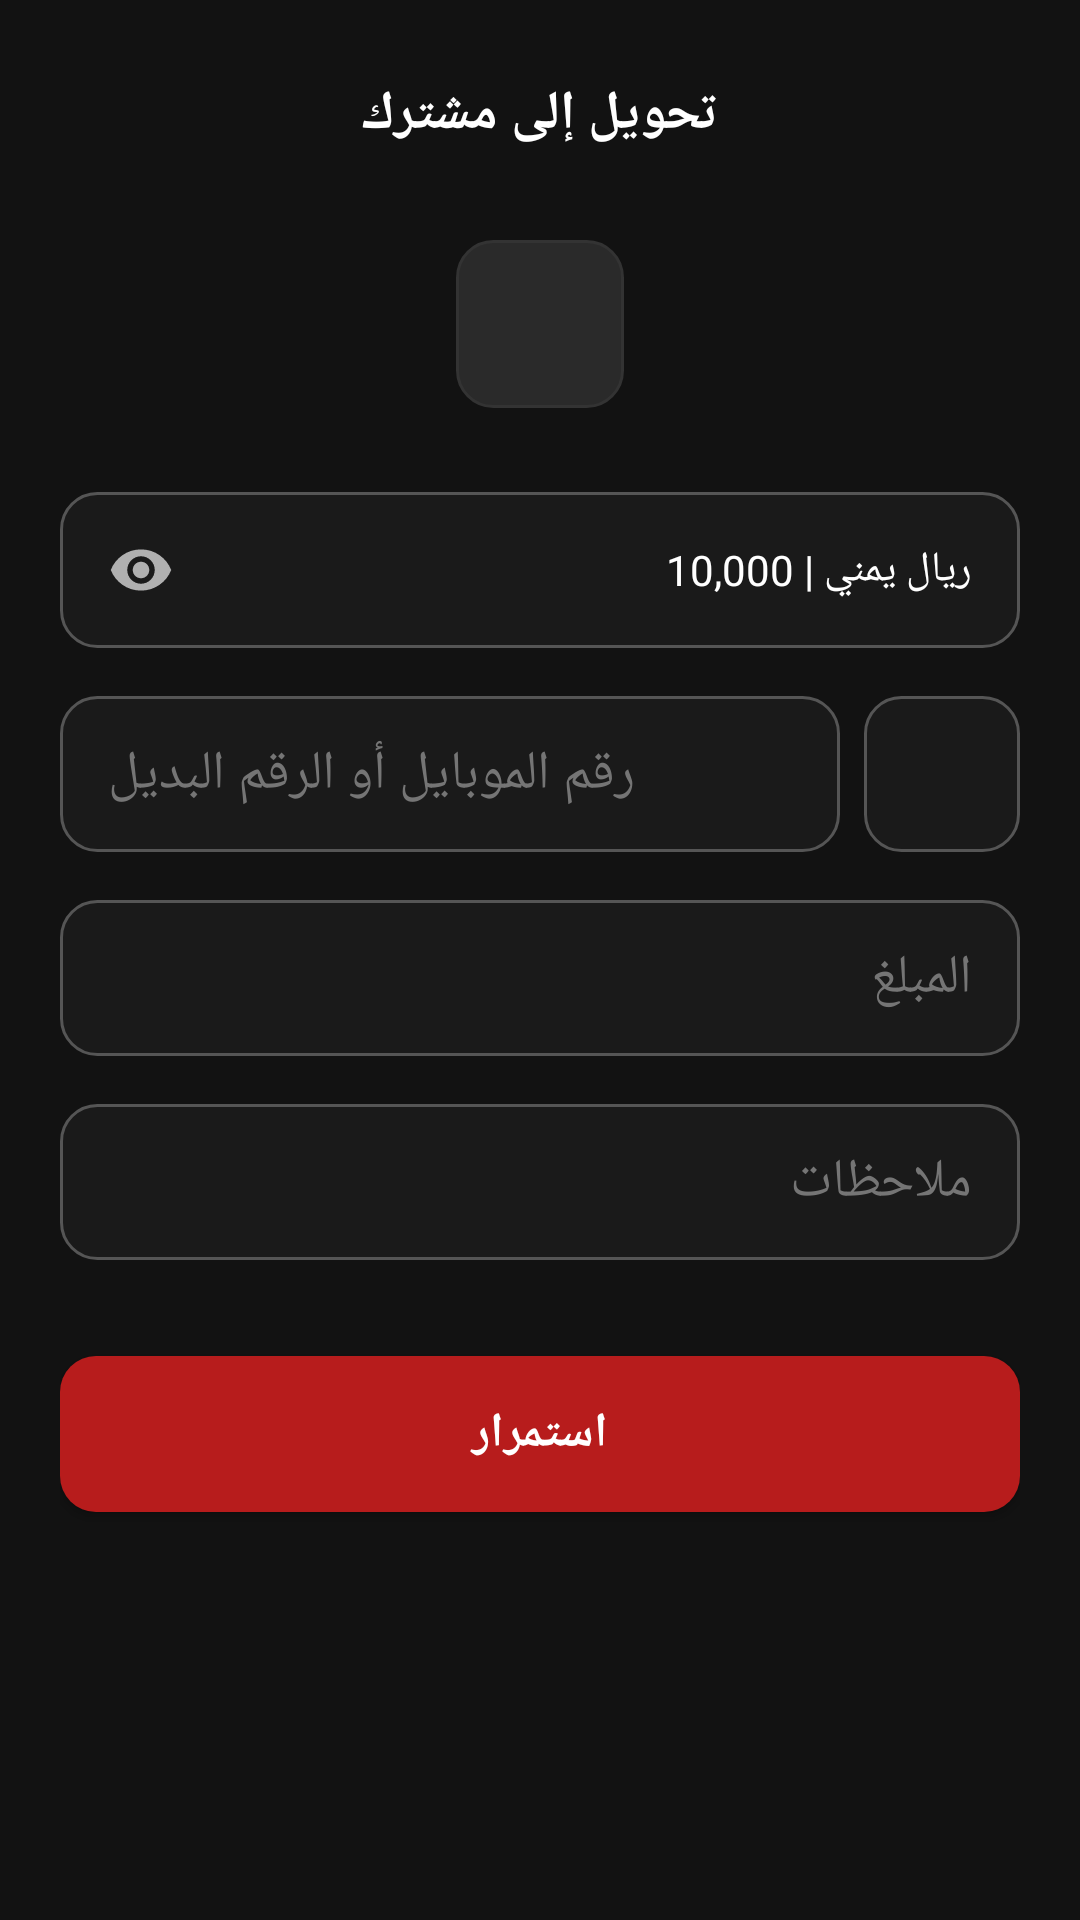

Screen size 1080 x 1920. Icon name, then its box in pixels as [x1, y1, x2, y2]:
eye: [111, 549, 171, 591]
